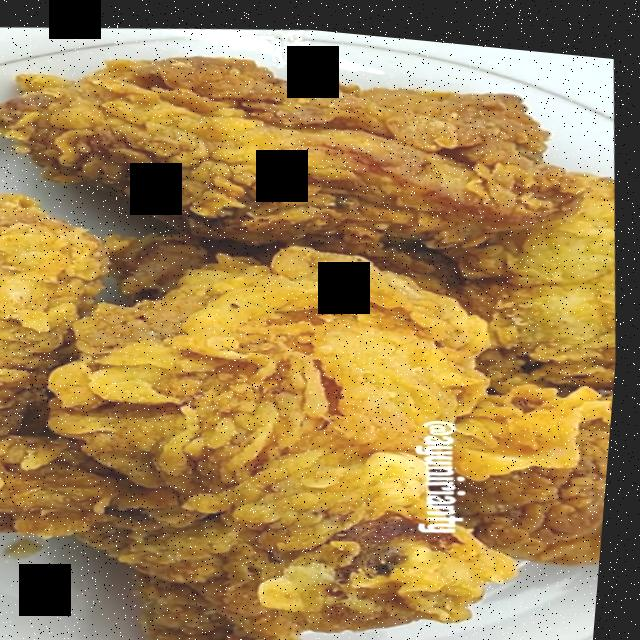Frango: (32, 208, 528, 640), (0, 1, 602, 285), (0, 187, 137, 544)
